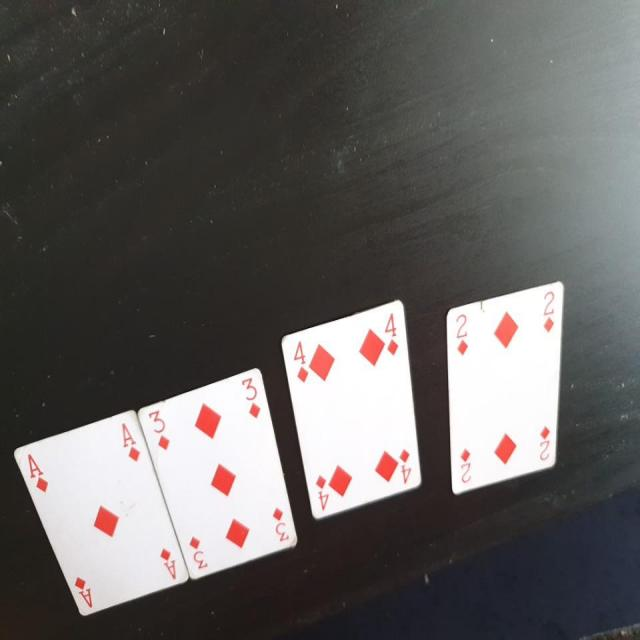2 Diamonds: (438, 270, 564, 489)
3 Diamonds: (136, 362, 302, 581)
4 Diamonds: (281, 292, 426, 524)
A Diamonds: (8, 406, 193, 617)
